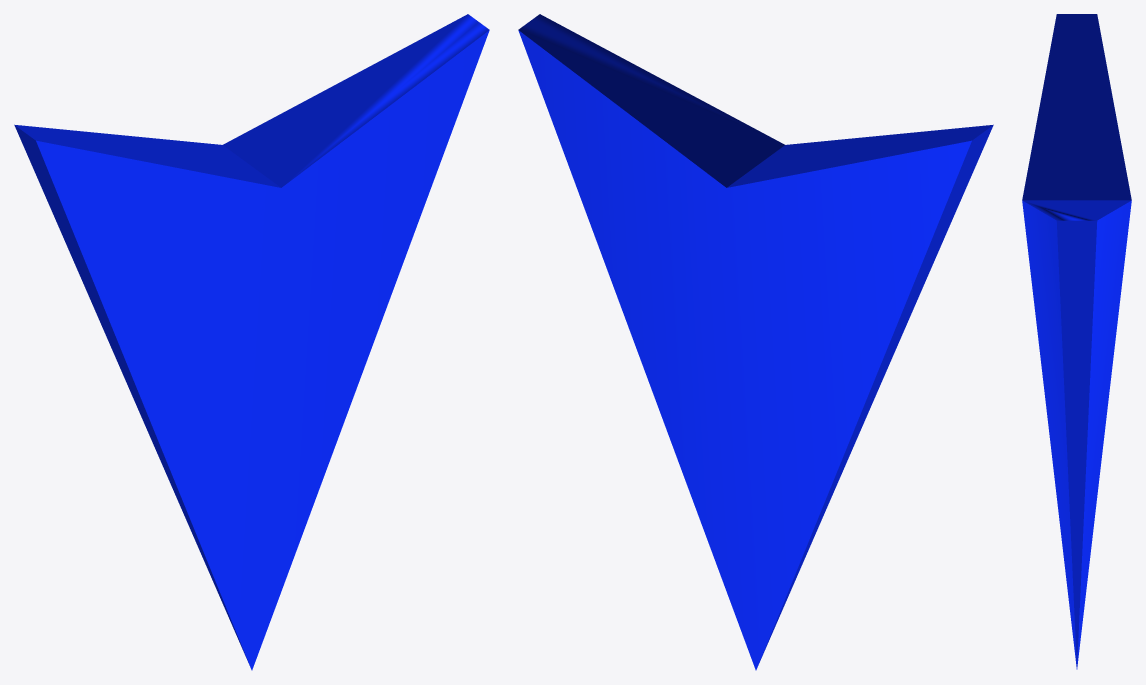
Rendered from darkblue.gltf.
3 renders of one model, left to right at view 1: azimuth 30°, elevation 25°; view 2: azimuth 150°, elevation 25°; view 3: azimuth 270°, elevation 25°, orthographic. The views are drawn at different scales.
Visible parts, largest first — view 1: dingwei; view 2: dingwei; view 3: dingwei.
Part boxes in pixels (left/top/right/bottom): dingwei: left=14, top=14, right=489, bottom=670; dingwei: left=518, top=14, right=993, bottom=670; dingwei: left=1022, top=14, right=1131, bottom=669.
Bounding box in the file's own units: 16.78 × 20.97 × 3.76.
